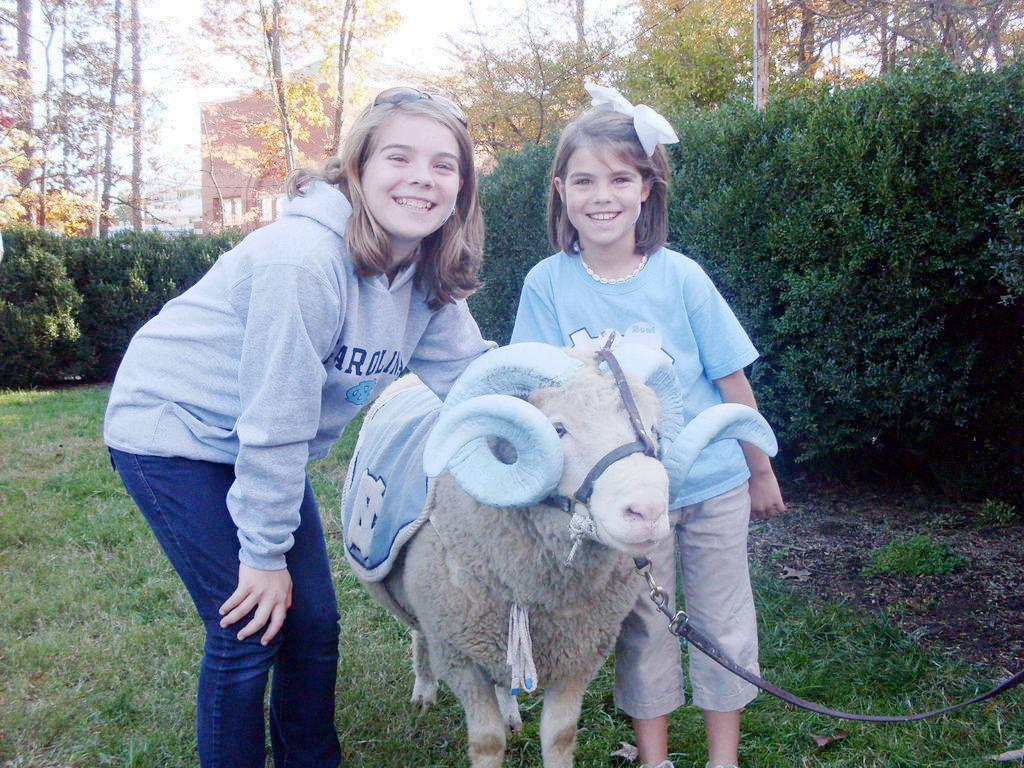Sheep: (328, 354, 681, 759)
